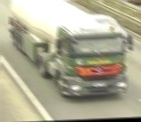truck: (8, 0, 134, 100)
